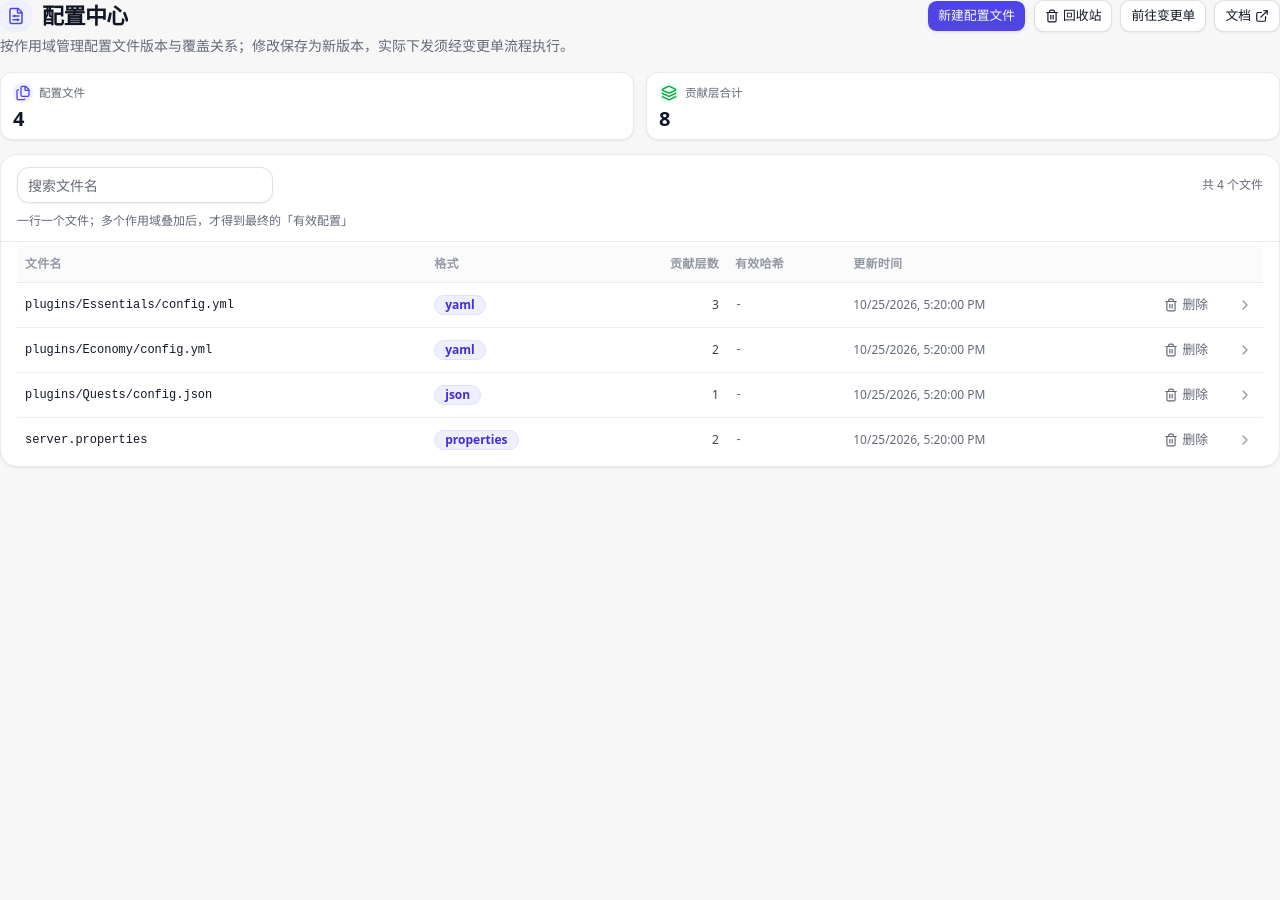
Test: /configs 配置中心页 › 配置移入回收站失败时保留确认框并展示错误
Click the button "删除" in the row of "plugins/Essentials/config.yml" at (1186, 304), box [1153,288,1219,320]
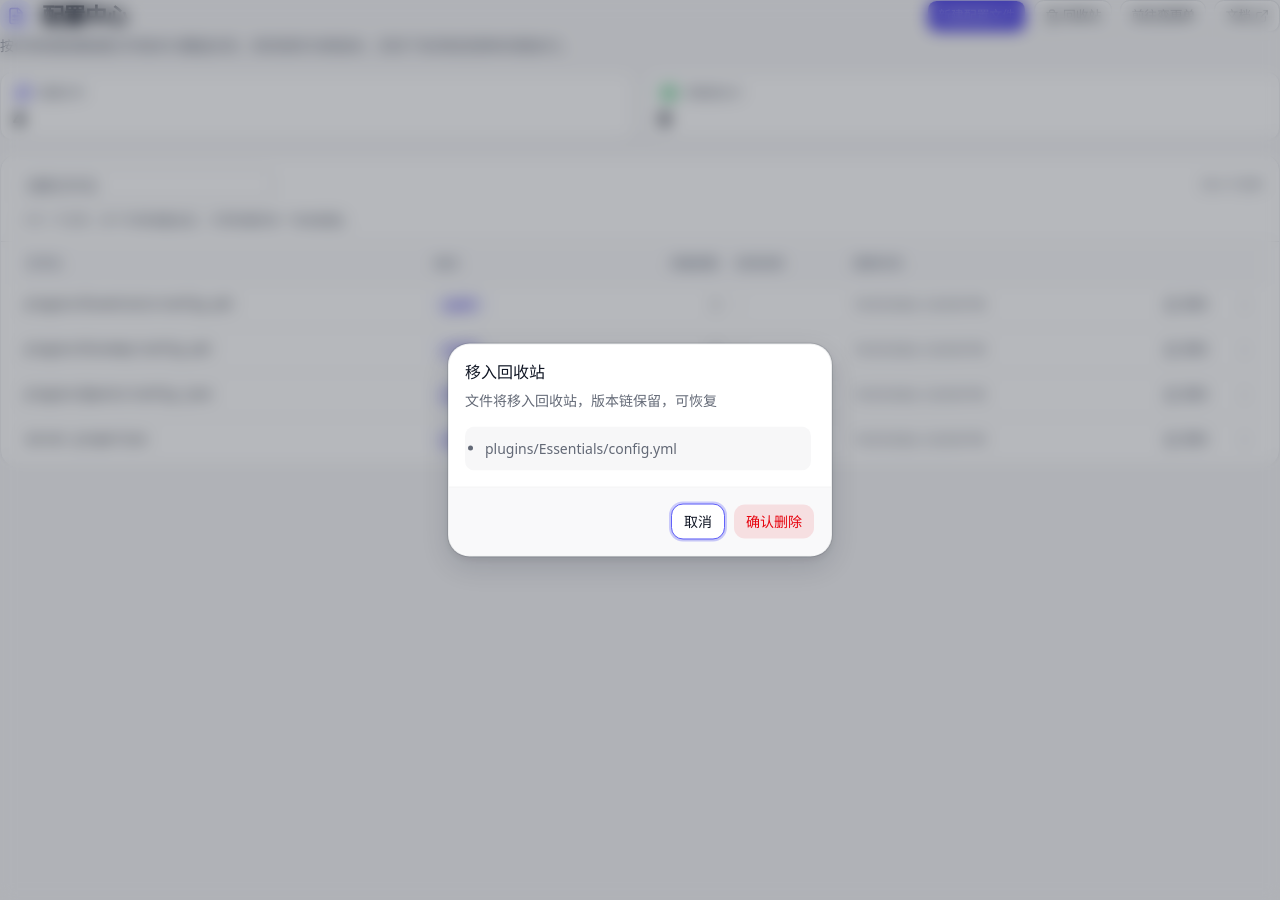
Click the button "确认删除" at (774, 522), box [733,504,815,540]
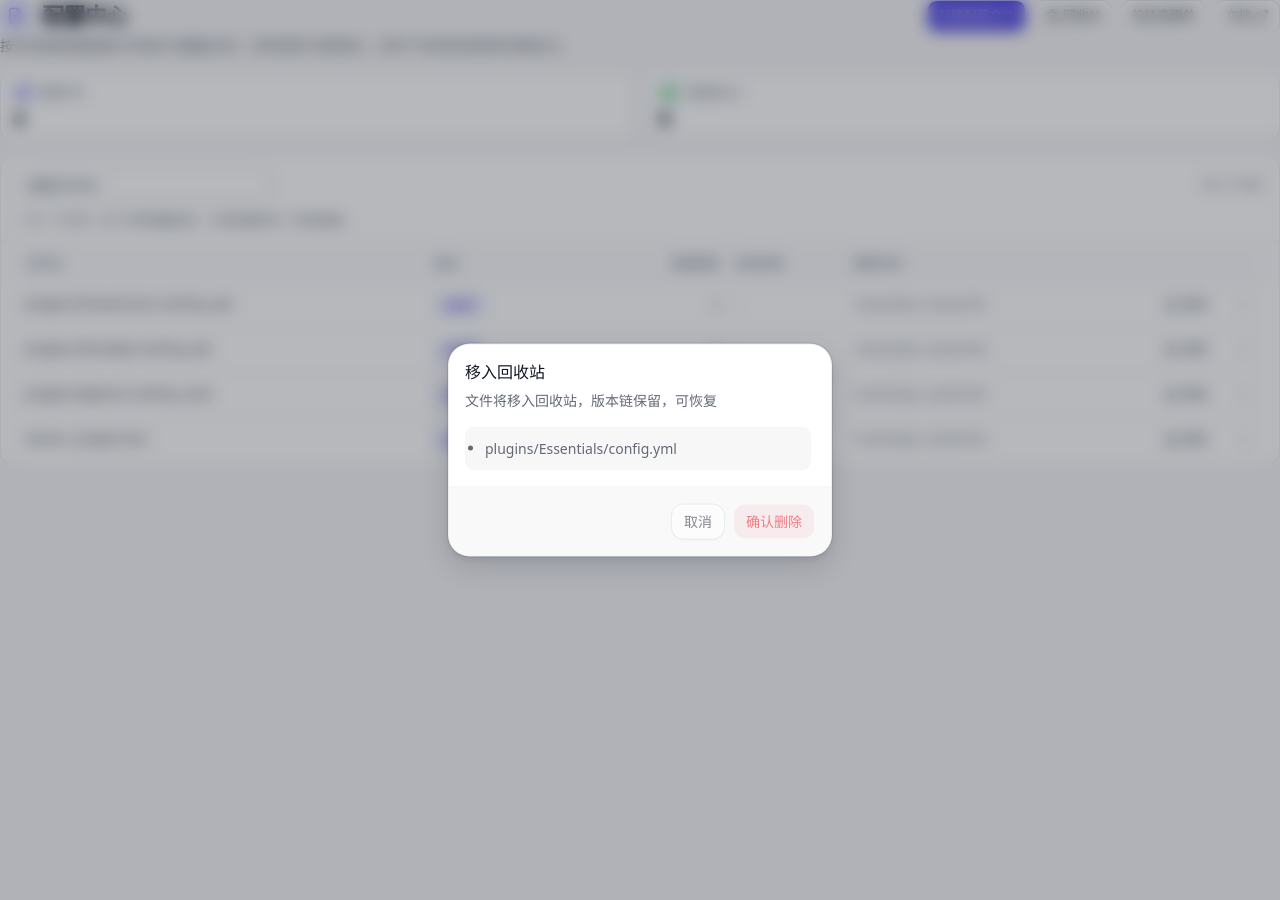
Expected: the button "确认删除" is disabled, [733,504,815,540]
Expected: the button "取消" is disabled, [671,504,725,540]
Press Escape
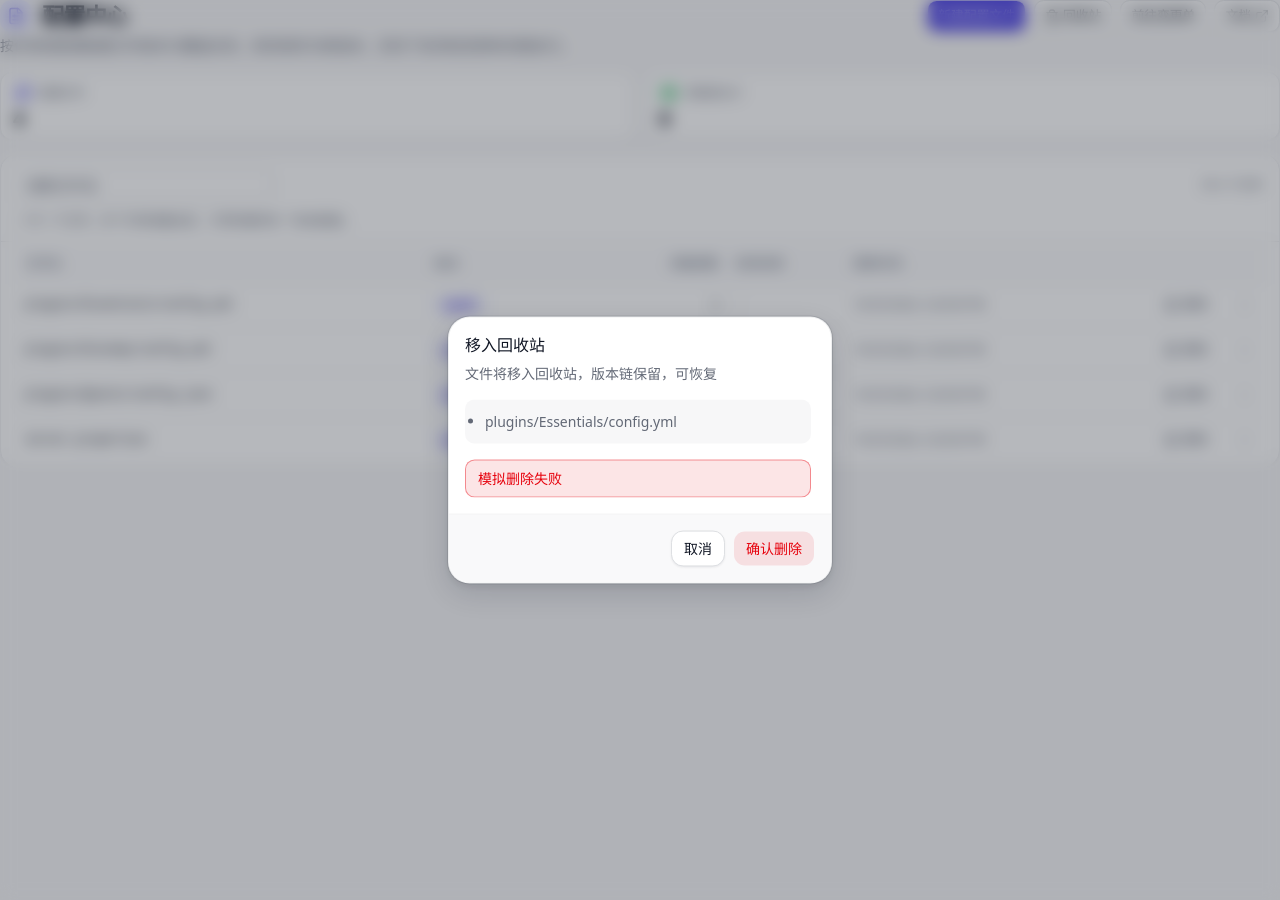
Expected: the dialog is shown, [448,316,832,584]
Expected: the text "模拟删除失败" is shown, [465,460,811,498]
